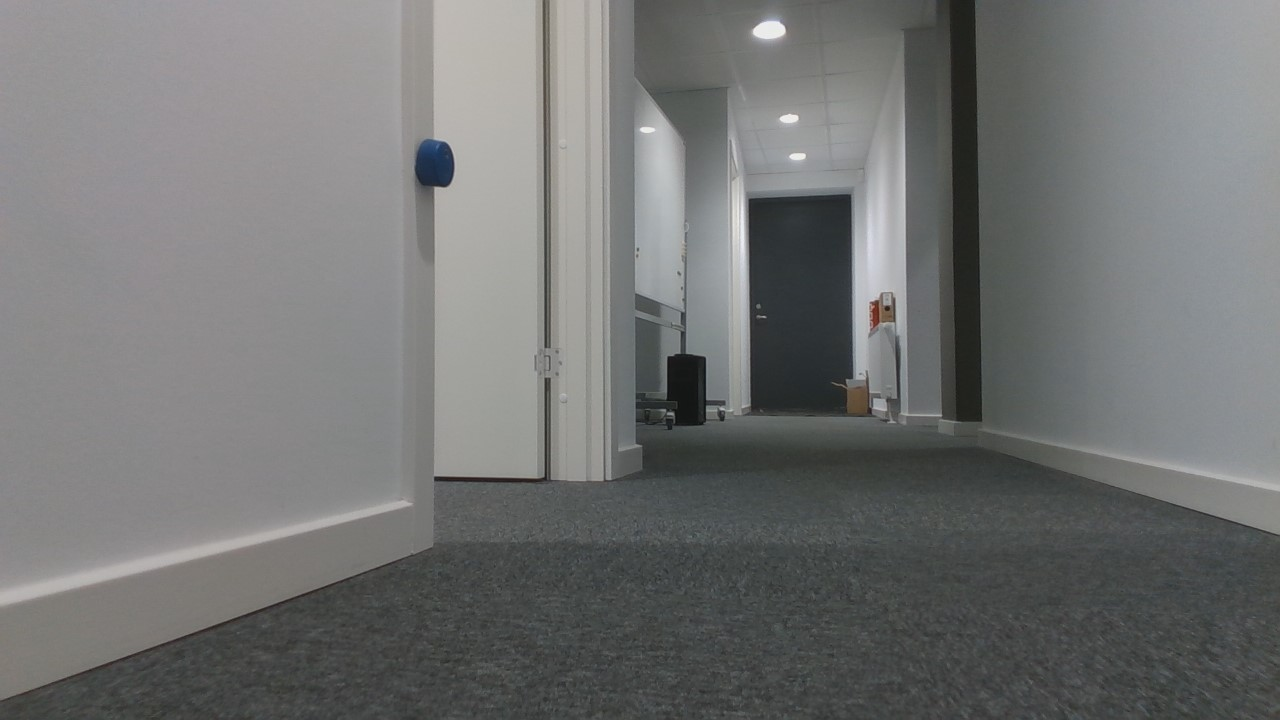alfa: (416, 137, 455, 186)
